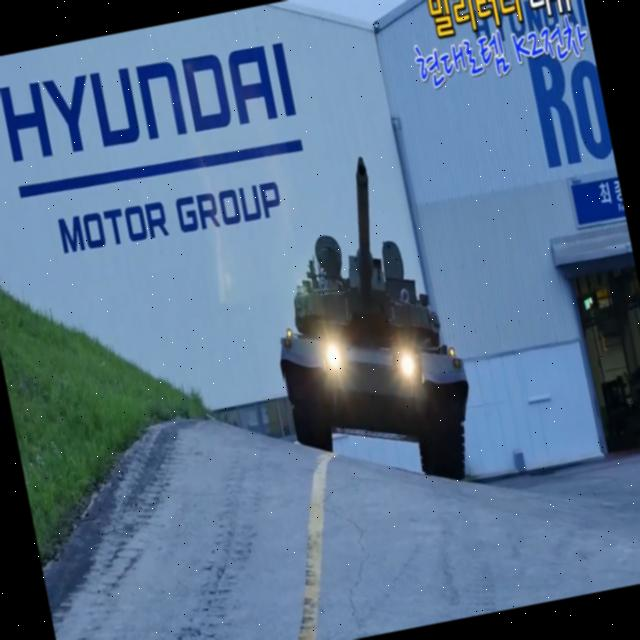korea tank: (244, 145, 486, 509)
